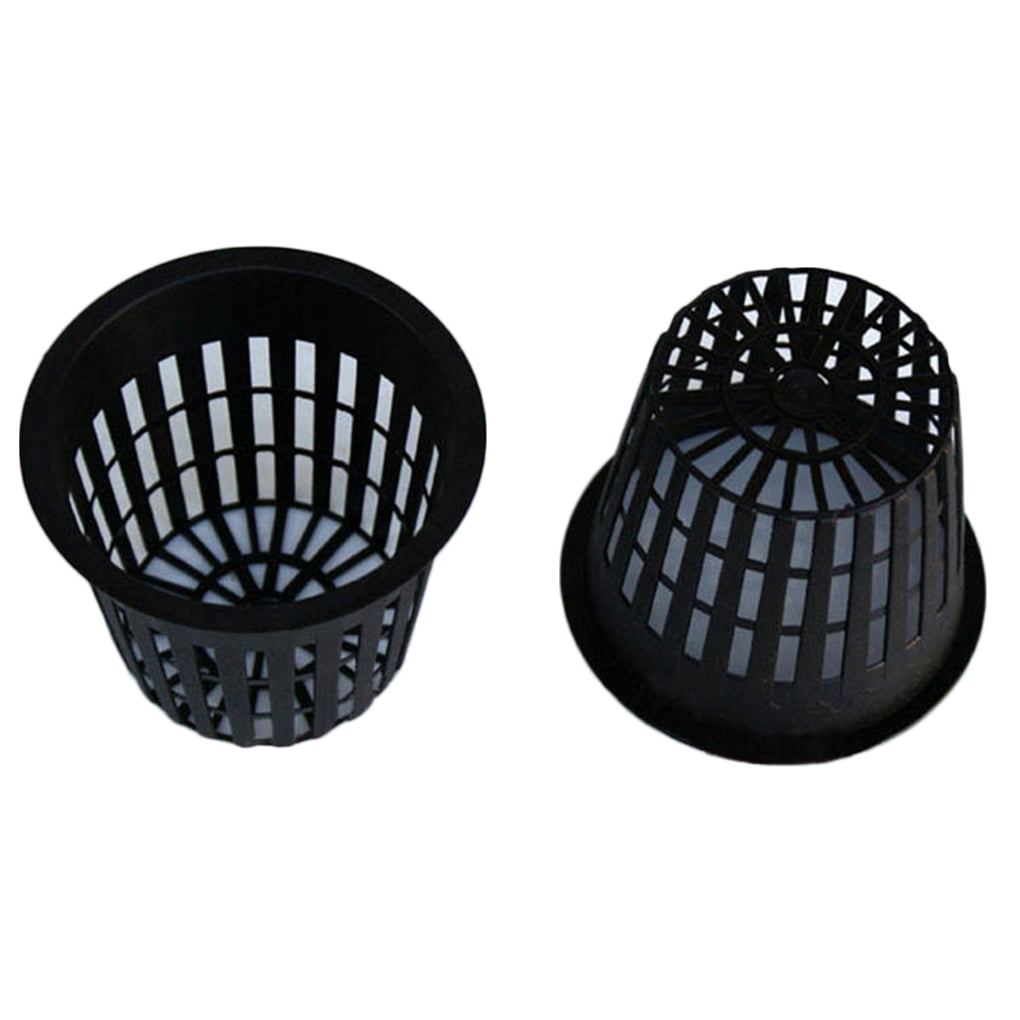basket: (19, 223, 484, 806), (556, 241, 982, 849)
